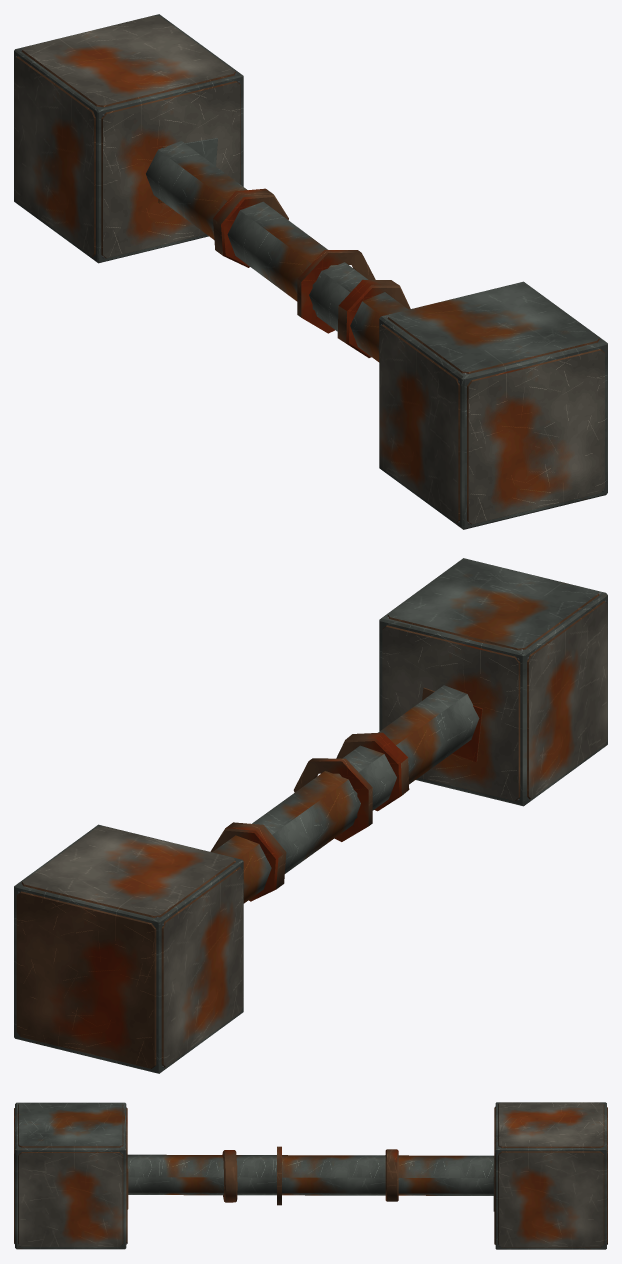
File: R4C_STRUT_LONG.glb
3 renders of one model, top to bottom at view 1: azimuth 30°, elevation 25°; view 2: azimuth 150°, elevation 25°; view 3: azimuth 270°, elevation 25°, orthographic. The views are drawn at different scales.
Parts seen in each view (by area): view 1: R4C_STRUT_LONG; view 2: R4C_STRUT_LONG; view 3: R4C_STRUT_LONG.
Boxes of the visible parts, x1,y1,x2,y2 form: R4C_STRUT_LONG: (14,14,607,529); R4C_STRUT_LONG: (14,558,607,1073); R4C_STRUT_LONG: (14,1102,607,1249).
Size of the model in its own units: 0.52 by 0.52 by 2.72.
4 materials, 4 textured.
